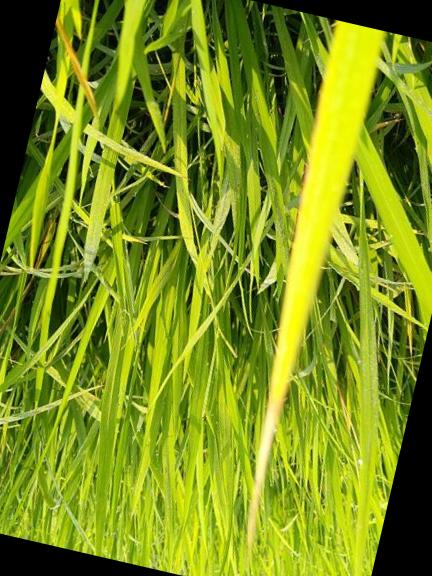Leaf Blight: (247, 208, 332, 543), (55, 12, 99, 119)
